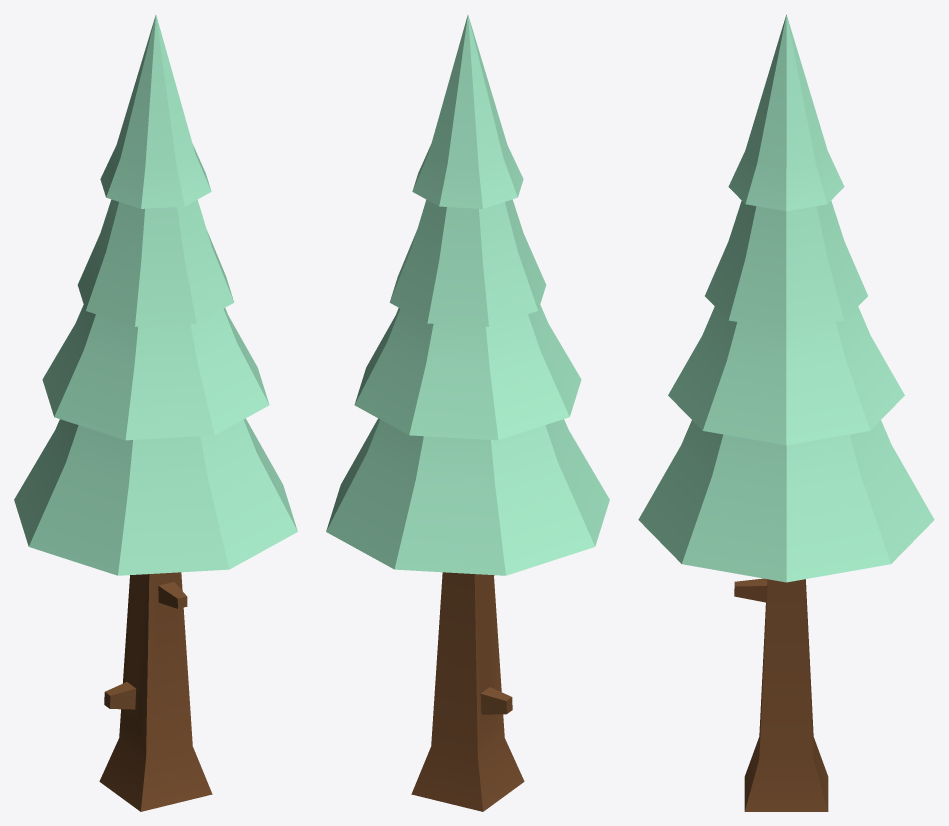
The model's file is Tree2.obj.
The picture shows the model from 3 angles, left to right: view 1: azimuth 30°, elevation 25°; view 2: azimuth 150°, elevation 25°; view 3: azimuth 270°, elevation 25°; orthographic projection.
Visible parts, largest first — view 1: Tree2:treeHigh; view 2: Tree2:treeHigh; view 3: Tree2:treeHigh.
Part boxes in pixels (x1,y1,x2,y2): Tree2:treeHigh: (14, 15, 297, 811); Tree2:treeHigh: (326, 15, 609, 811); Tree2:treeHigh: (638, 14, 934, 811).
Size of the model in its own units: 1.02 by 2.97 by 1.02.
